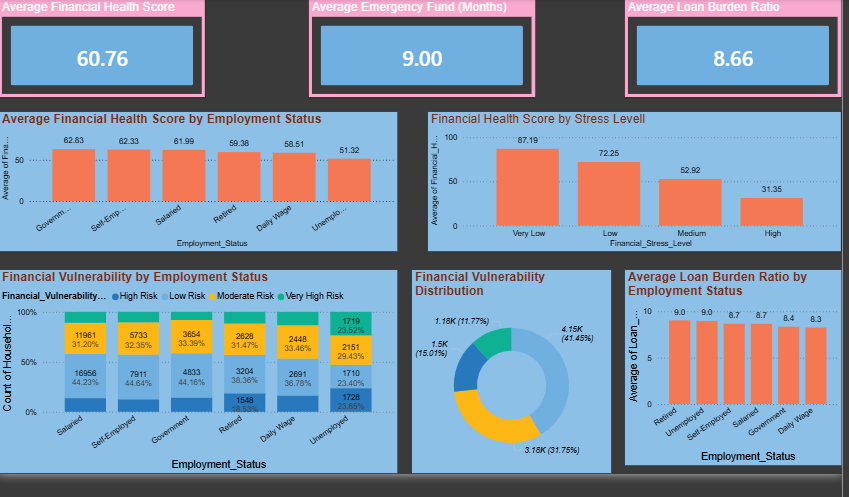

The page's visual inventory and layout, read from the dashboard file:
{"tool":"powerbi","page":{"name":"Financial Health & Risk","canvas":[1280,720],"ordinal":2},"visuals":[{"type":"cardVisual","title":"Average Financial Health Score","fields":{"Data":["Avg(HouseholdData.Financial_Health_Score)"]},"box":[0,0,315.5,150.1],"z":0},{"type":"cardVisual","title":"Average Emergency Fund (Months)","fields":{"Data":["Avg(HouseholdData.Emergency_Fund_Months)"]},"box":[470.1,0,345.8,150.1],"z":1000},{"type":"cardVisual","title":"Average Loan Burden Ratio","fields":{"Data":["Avg(HouseholdData.Loan_Burden_Ratio)"]},"box":[949.4,0,330.6,150.1],"z":2000},{"type":"clusteredColumnChart","title":"Average Financial Health Score by Employment Status","fields":{"Category":["HouseholdData.Employment_Status"],"Y":["Avg(HouseholdData.Financial_Health_Score)"]},"box":[0,169.9,606.6,213.8],"z":3000},{"type":"hundredPercentStackedColumnChart","title":"Financial Vulnerability by Employment Status","fields":{"Category":["HouseholdData.Employment_Status"],"Series":["HouseholdData.Financial_Vulnerability_Category"],"Y":["Count(HouseholdData.Household_ID)"]},"box":[0,409.5,606.6,310.9],"z":4000},{"type":"clusteredColumnChart","title":"Financial Health Score by Stress Levell","fields":{"Category":["HouseholdData.Financial_Stress_Level"],"Y":["Avg(HouseholdData.Financial_Health_Score)"]},"box":[650.6,169.9,629.4,213.8],"z":5000},{"type":"donutChart","title":"Financial Vulnerability Distribution","fields":{"Category":["HouseholdData.Financial_Vulnerability_Category"],"Y":["Count(HouseholdData.Household_ID)"]},"box":[626.4,409.5,304.8,310.9],"z":6000},{"type":"clusteredColumnChart","title":"Average Loan Burden Ratio by Employment Status","fields":{"Category":["HouseholdData.Employment_Status"],"Y":["Avg(HouseholdData.Loan_Burden_Ratio)"]},"box":[949.4,409.5,330.6,298.8],"z":7000}]}

Visuals, with their boxes in screenshot pixels (x1, y1, x2, y2):
"Average Financial Health Score" cardVisual: [x1=0, y1=0, x2=206, y2=96]
"Average Emergency Fund (Months)" cardVisual: [x1=307, y1=0, x2=534, y2=96]
"Average Loan Burden Ratio" cardVisual: [x1=621, y1=0, x2=837, y2=96]
"Average Financial Health Score by Employment Status" clusteredColumnChart: [x1=0, y1=109, x2=397, y2=249]
"Financial Vulnerability by Employment Status" hundredPercentStackedColumnChart: [x1=0, y1=266, x2=397, y2=469]
"Financial Health Score by Stress Levell" clusteredColumnChart: [x1=426, y1=109, x2=837, y2=249]
"Financial Vulnerability Distribution" donutChart: [x1=410, y1=266, x2=609, y2=469]
"Average Loan Burden Ratio by Employment Status" clusteredColumnChart: [x1=621, y1=266, x2=837, y2=461]
